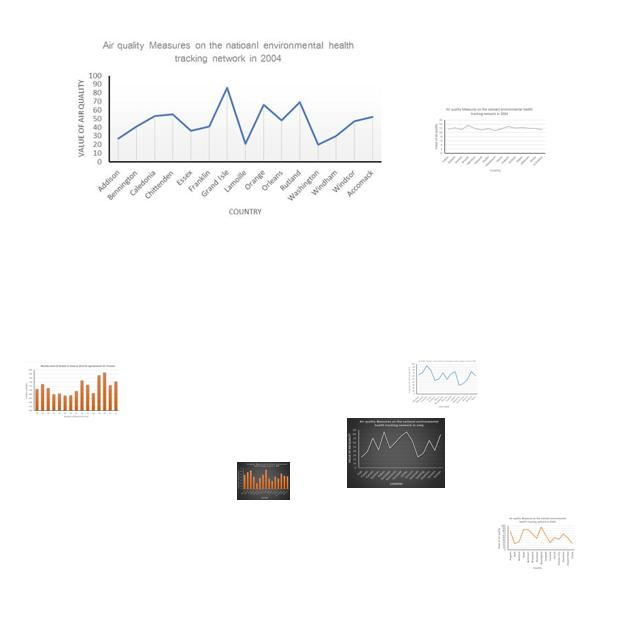Graph: (68, 33, 387, 223), (432, 105, 547, 174), (347, 418, 445, 488), (23, 362, 121, 420), (496, 515, 576, 571), (407, 359, 479, 409), (237, 462, 290, 500)
